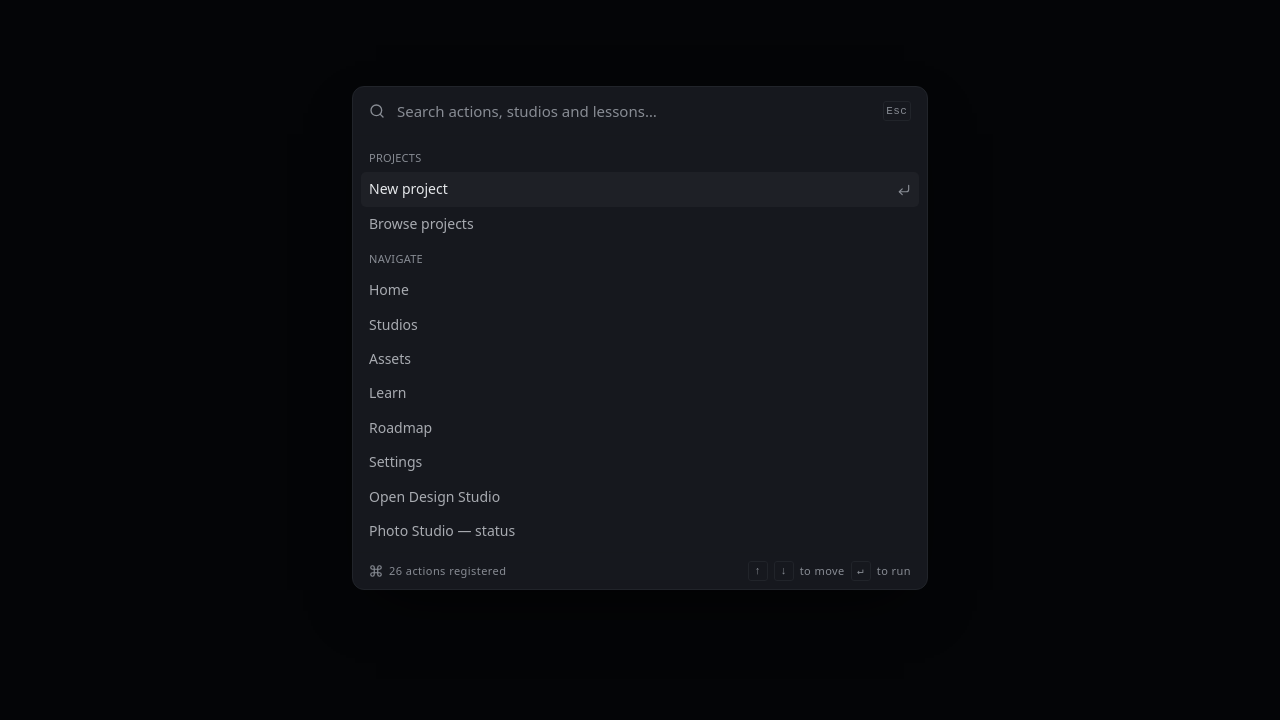
it: CommandPalette › filters actions as the user types
The image size is (1280, 720).
Type "roadmap" into the field named "Search commands" at x=634, y=111, box x1=397 y1=99 x2=870 y2=123
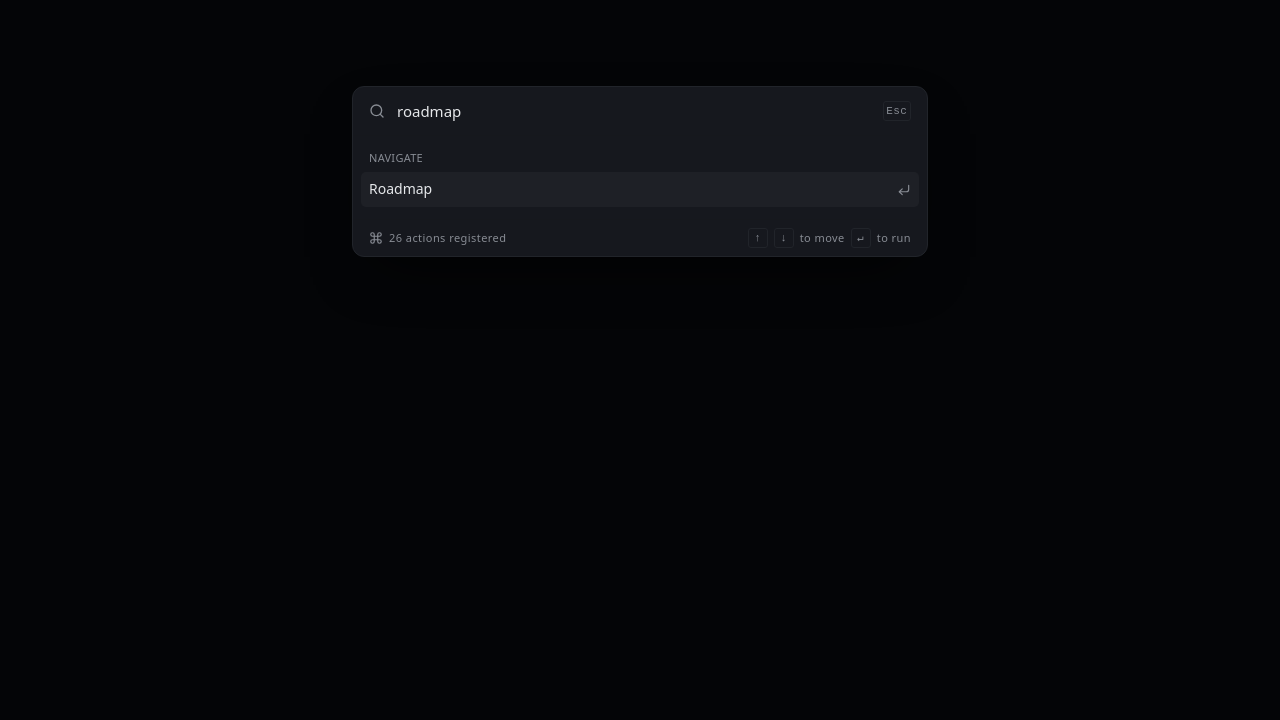
Expected: the button "Roadmap" is shown, x1=361 y1=172 x2=919 y2=207
Now the button "New project" is gone
